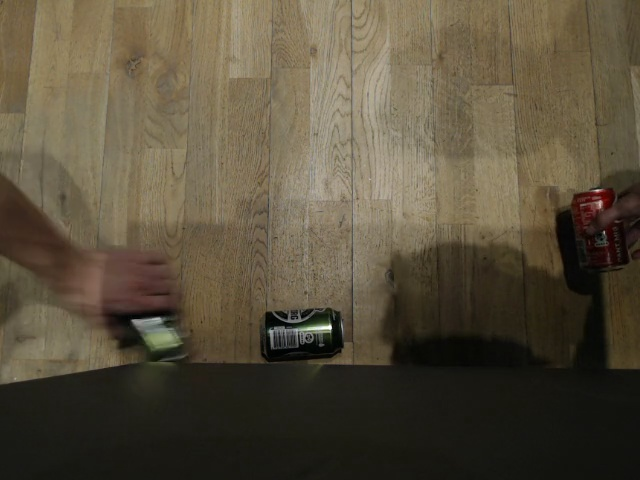beer: (260, 305, 343, 362), (125, 315, 187, 365)
cola: (568, 187, 629, 274)
